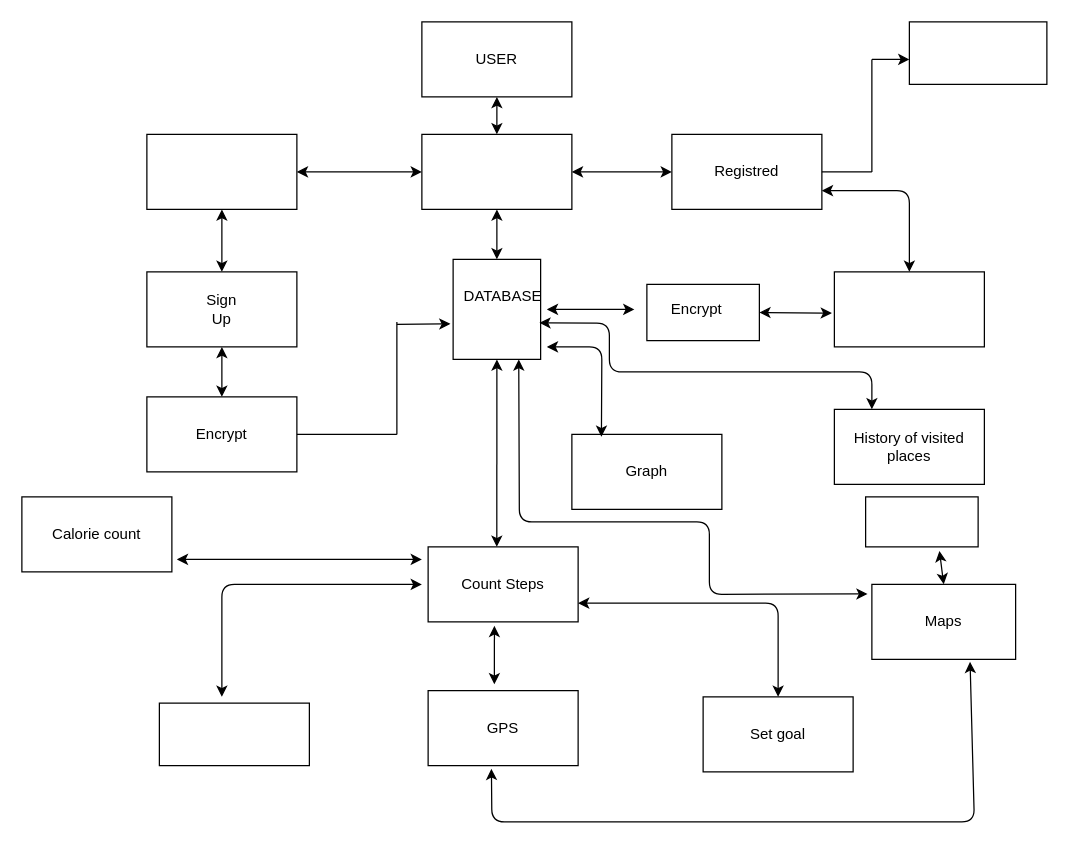
The diagram is 1069 pixels wide and 855 high, and some of its shapes have lost their labels. The shapes that lost their labels are listed below. From the top down, each one's centre as x and y in pixels, then its label:
At [977,52]: "Log Out".
At [221,171]: "Unregistered".
At [496,171]: "Trackpath".
At [908,309]: "Log In".
At [921,521]: "Maps Api".
At [233,734]: "Accelerometer".
